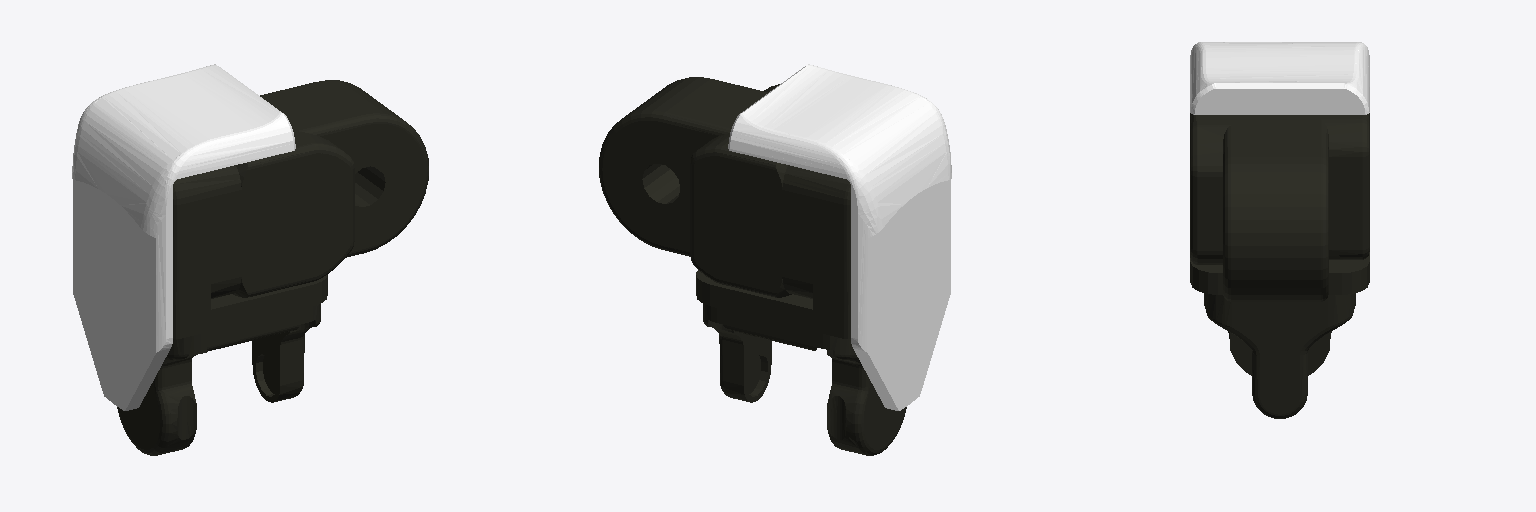
The model's file is tesollo_left_ll_dg_3_1_visuals_ll_dg_3_1_mesh.obj.
3 renders of one model, left to right at view 1: azimuth 30°, elevation 25°; view 2: azimuth 150°, elevation 25°; view 3: azimuth 270°, elevation 25°, orthographic.
Bounding box in the file's own units: 0.0427 × 0.0466 × 0.0224.